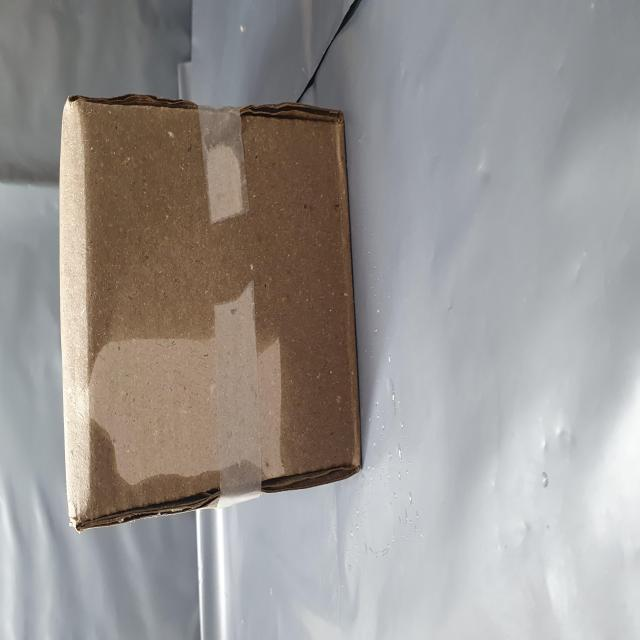wet: (65, 108, 304, 640)
